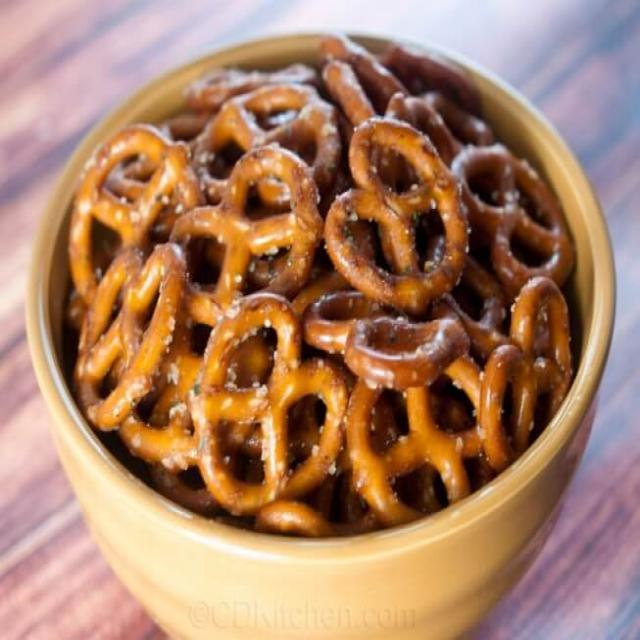Salatini: (60, 42, 586, 518)
